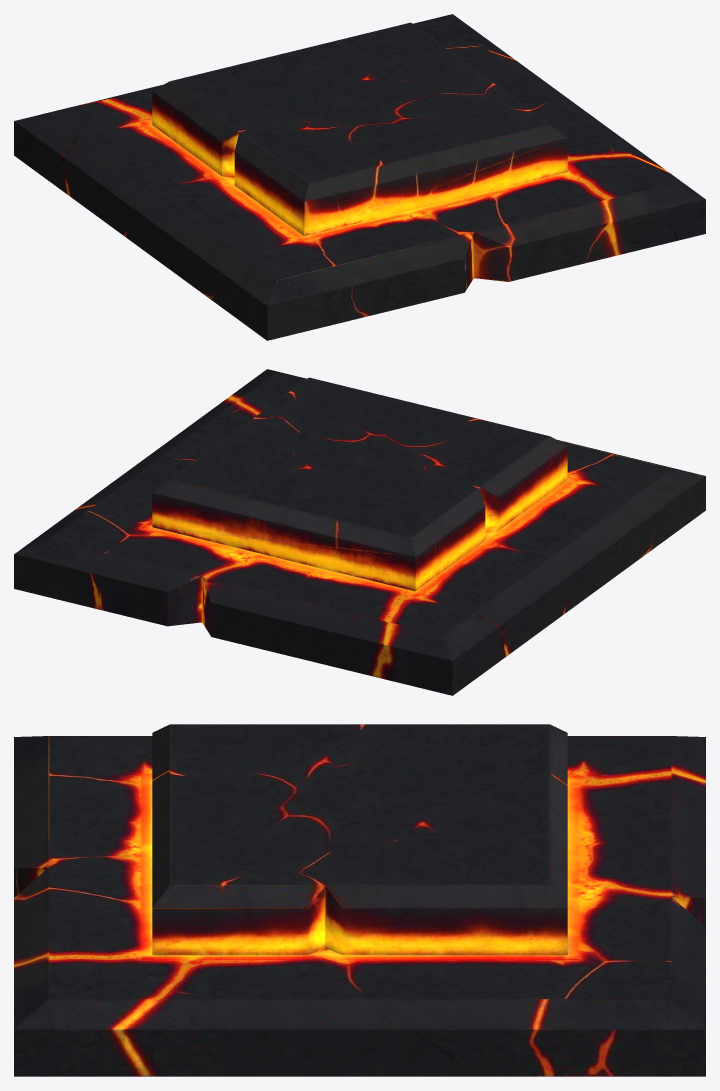
File: magma-forge.glb
3 renders of one model, top to bottom at view 1: azimuth 30°, elevation 25°; view 2: azimuth 150°, elevation 25°; view 3: azimuth 270°, elevation 25°, orthographic. The views are drawn at different scales.
Parts seen in each view (by area): view 1: mesh_node; view 2: mesh_node; view 3: mesh_node.
Part boxes in pixels (bbox=[...]): mesh_node: bbox=[14, 14, 705, 340]; mesh_node: bbox=[14, 369, 705, 695]; mesh_node: bbox=[14, 724, 705, 1076].
Bounding box in the file's own units: 2 × 0.4 × 2.
1 material, 1 textured.
